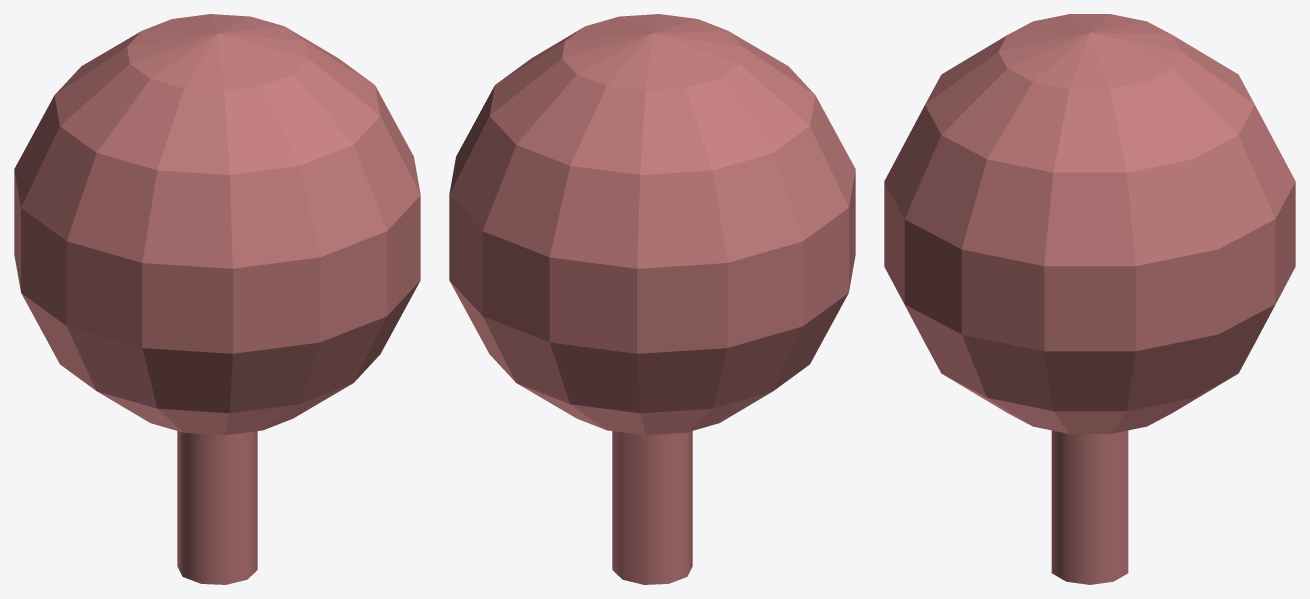
The model's file is tree1.glb.
3 views of the same model, side by side, from view 1: azimuth 30°, elevation 25°; view 2: azimuth 150°, elevation 25°; view 3: azimuth 270°, elevation 25° (orthographic).
Visible parts, largest first — view 1: x3ds_Sphere01, x3ds_Cylinder01; view 2: x3ds_Sphere01, x3ds_Cylinder01; view 3: x3ds_Sphere01, x3ds_Cylinder01.
Part boxes in pixels (x1,y1,x2,y2): x3ds_Sphere01: (14,14,420,435); x3ds_Cylinder01: (177,431,257,584); x3ds_Sphere01: (449,14,855,435); x3ds_Cylinder01: (612,431,692,584); x3ds_Sphere01: (884,14,1295,433); x3ds_Cylinder01: (1051,430,1128,584).
Bounding box in the file's own units: 76.04 × 112 × 77.99.
